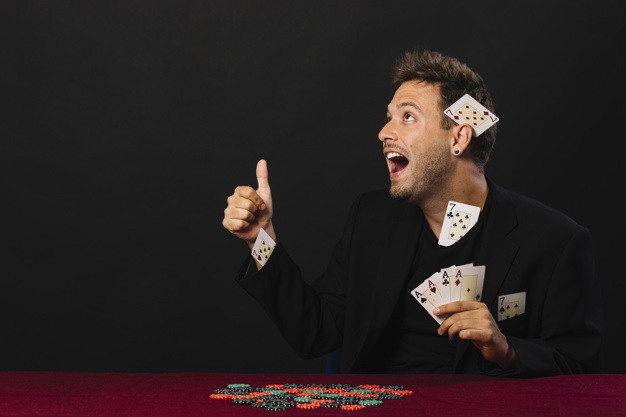thumbsup: (221, 159, 269, 232)
